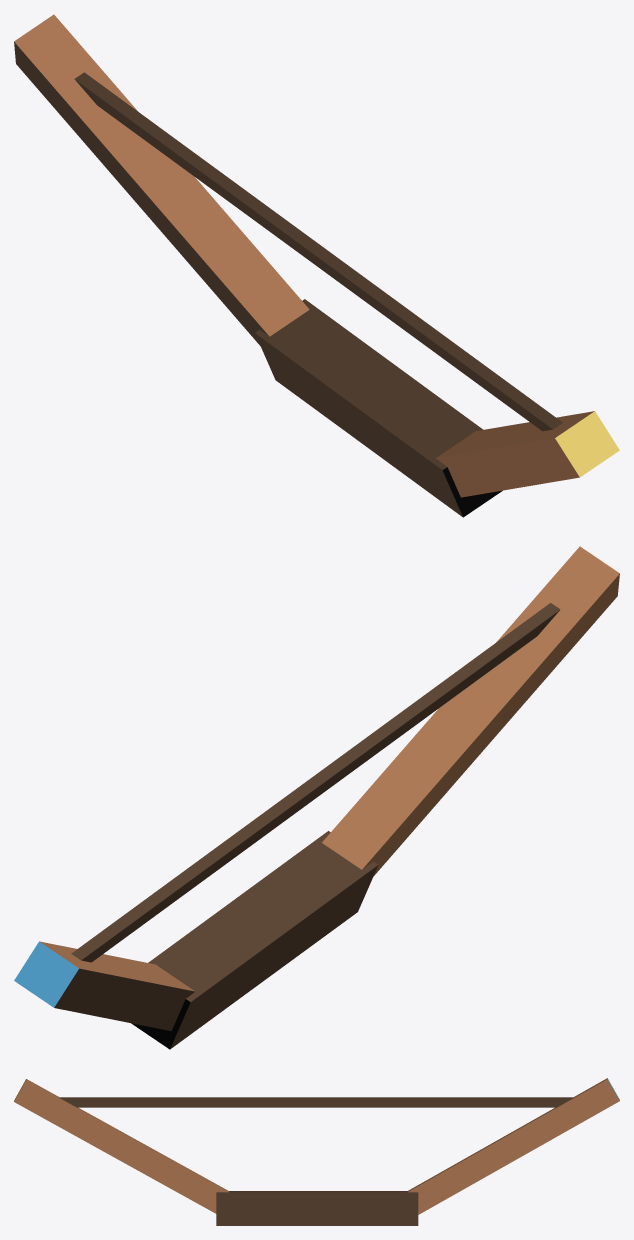
Rendered from bow.gltf.
3 renders of one model, top to bottom at view 1: azimuth 30°, elevation 25°; view 2: azimuth 150°, elevation 25°; view 3: azimuth 270°, elevation 25°, orthographic. The views are drawn at different scales.
Visible parts, largest first — view 1: cube; view 2: cube; view 3: cube.
Part boxes in pixels (left/top/right/bottom): cube: left=14, top=14, right=619, bottom=517; cube: left=14, top=546, right=619, bottom=1049; cube: left=14, top=1078, right=619, bottom=1225.
Size of the model in its own units: 0.3127 by 0.5469 by 2.25.
1 material, 1 textured.
